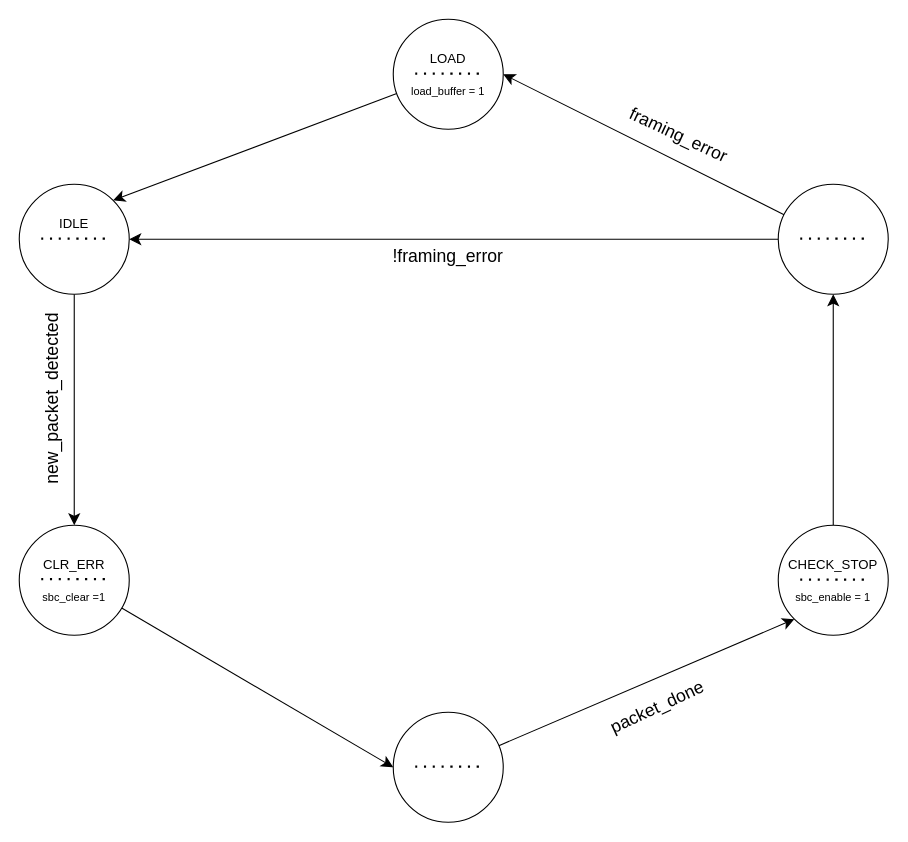
Some shapes in this 908 by 842 pixel diagram are drawn without their labels. Each missing label, with the box of its shape:
RECEIVE enable_timer = 1: (392, 711, 503, 822)
WAIT_FE: (777, 183, 888, 294)
